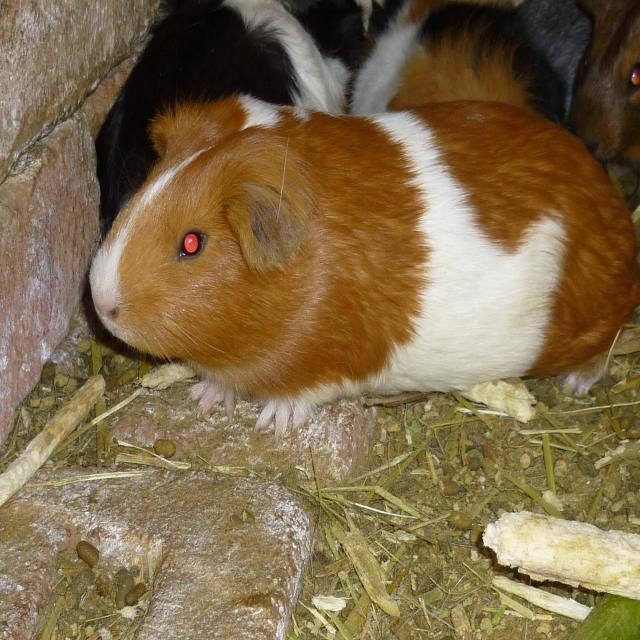Guinea Pig: (87, 90, 638, 438)
